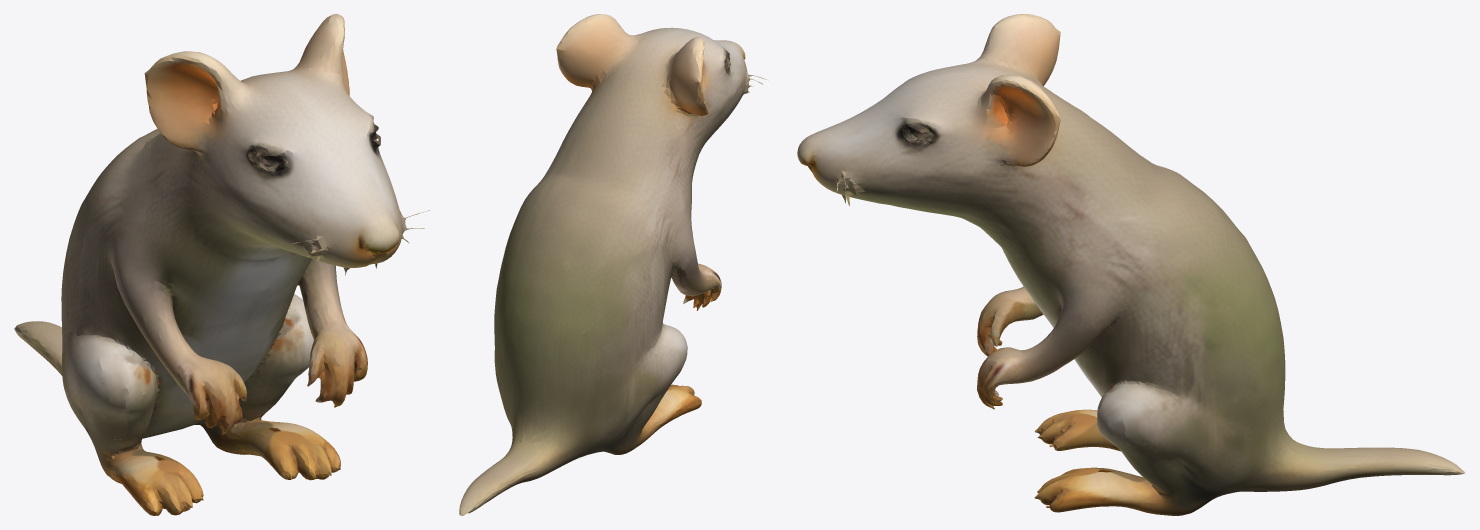
3 views of the same model, side by side, from view 1: azimuth 30°, elevation 25°; view 2: azimuth 150°, elevation 25°; view 3: azimuth 270°, elevation 25° (orthographic). The views are drawn at different scales.
Parts seen in each view (by area): view 1: 008; view 2: 008; view 3: 008.
Boxes of the visible parts, x1,y1,x2,y2 form: 008: (14,14,429,515); 008: (459,14,766,515); 008: (797,14,1465,515).
Bounding box in the file's own units: 0.6847 × 1.39 × 1.9.
1 material, 1 textured.
